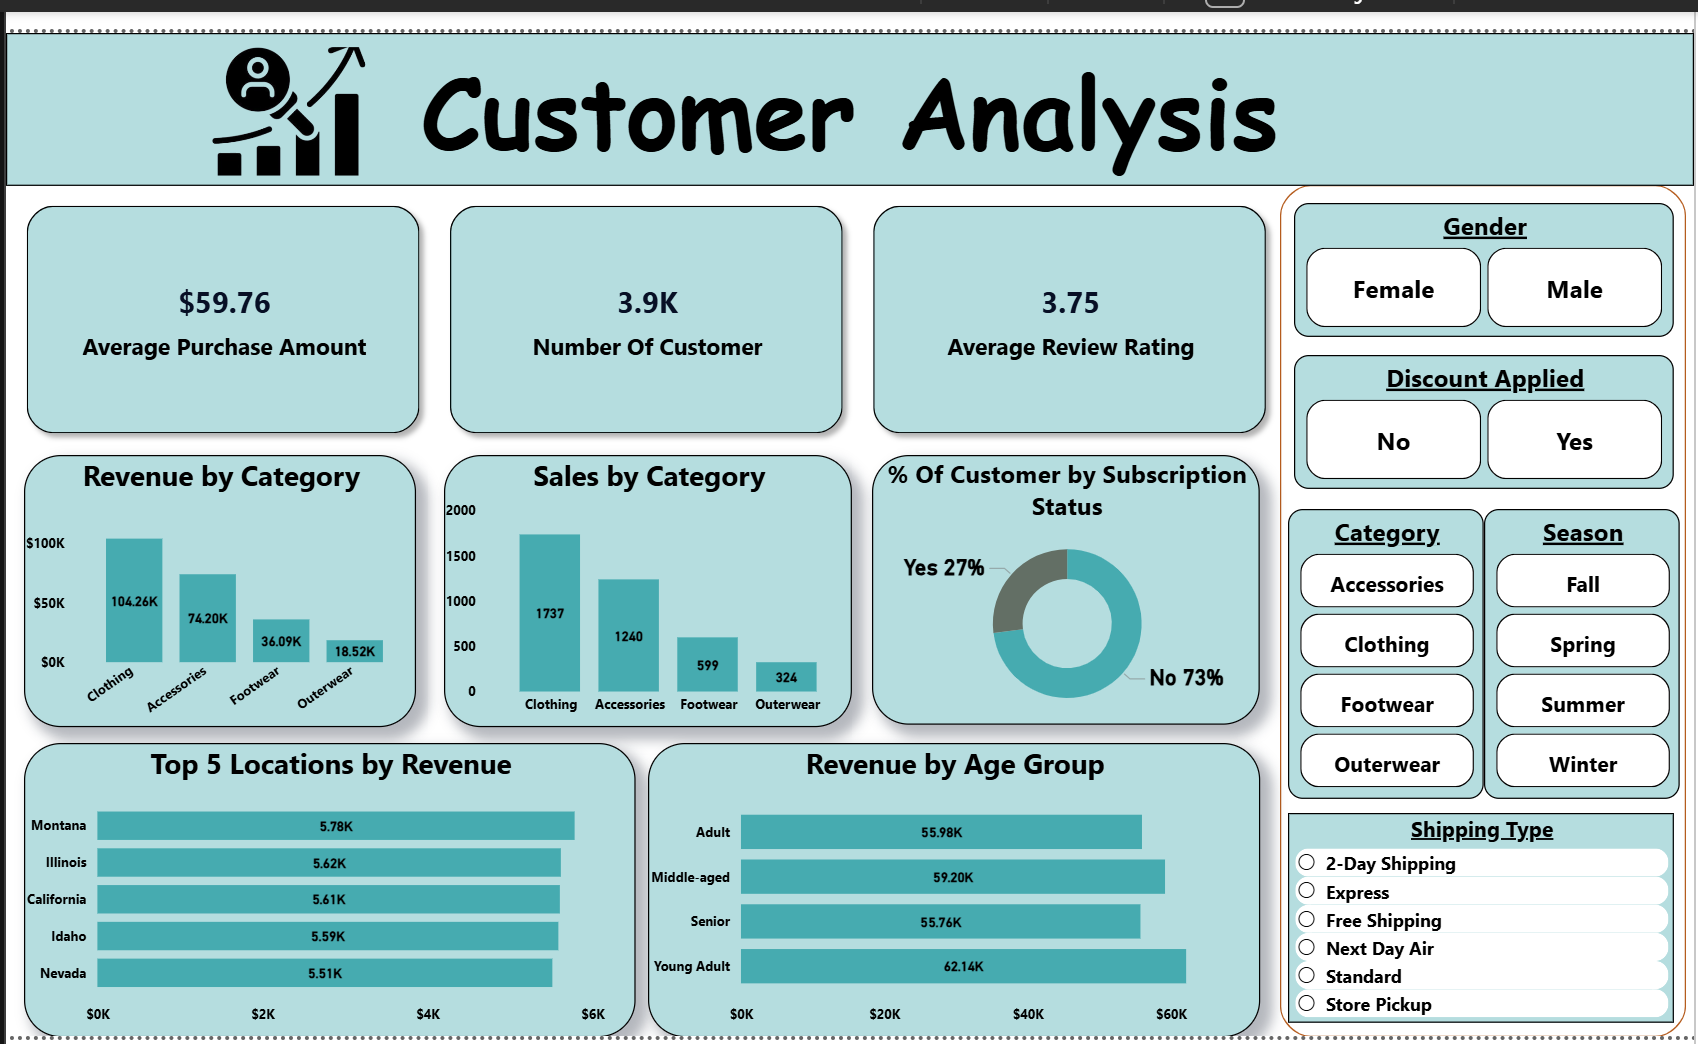

The page's visual inventory and layout, read from the dashboard file:
{"tool":"powerbi","page":{"name":"Page 1","canvas":[1380,820],"ordinal":0},"visuals":[{"type":"shape","box":[1041.5,123.4,331.9,696.5],"z":0},{"type":"cardVisual","fields":{"Data":["customer_db customer.Average Purchase Amount","customer_db customer.Number Of Customer","customer_db customer.Average Review Rating"]},"box":[0,124.3,1048.1,220.7],"z":1000},{"type":"shape","box":[0,0,1380,125],"z":2000},{"type":"donutChart","title":"%  Of Customer by Subscription Status","fields":{"Category":["customer_db customer.subscription_status"],"Y":["customer_db customer.Number Of Customer"]},"box":[708,345,317.2,220.7],"z":3000},{"type":"clusteredColumnChart","title":"Revenue by Category","fields":{"Category":["customer_db customer.category"],"Y":["Sum(customer_db customer.purchase_amount)"]},"box":[14.7,345,320.5,222.4],"z":4000},{"type":"clusteredColumnChart","title":"Sales by Category","fields":{"Category":["customer_db customer.category"],"Y":["customer_db customer.Number Of Customer"]},"box":[358.1,345,333.6,222.4],"z":5000},{"type":"advancedSlicerVisual","title":"Season","fields":{"Values":["customer_db customer.season"]},"box":[1208.3,389.1,160.2,237.1],"z":6000},{"type":"advancedSlicerVisual","title":"Gender","fields":{"Values":["customer_db customer.gender"]},"box":[1053,139,310.7,109.5],"z":7000},{"type":"advancedSlicerVisual","title":"Discount Applied","fields":{"Values":["customer_db customer.discount_applied"]},"box":[1053,263.2,310.7,109.5],"z":8000},{"type":"advancedSlicerVisual","title":"Category","fields":{"Values":["customer_db customer.category"]},"box":[1048.1,389.1,160.2,237.1],"z":9000},{"type":"listSlicer","title":"Shipping Type","fields":{"Values":["customer_db customer.shipping_type"]},"box":[1048.1,637.7,315.6,171.7],"z":10000},{"type":"clusteredBarChart","title":"Top 5 Locations by Revenue","fields":{"Category":["customer_db customer.location"],"Y":["Sum(customer_db customer.purchase_amount)","select"]},"box":[14.7,580.5,500,240.4],"z":11000},{"type":"clusteredBarChart","title":"Revenue by Age Group","fields":{"Y":["select","Sum(customer_db customer.purchase_amount)"],"Category":["customer_db customer.age_group"]},"box":[524.9,580.5,500.3,240.4],"z":12000},{"type":"image","box":[127.5,6,207.5,115],"z":13000}]}

Visuals, with their boxes in screenshot pixels (x1, y1, x2, y2):
shape: detection(1268, 176, 1671, 1021)
cardVisual - customer_db customer.Average Purchase Amount x customer_db customer.Number Of Customer: detection(4, 177, 1276, 445)
shape: detection(4, 27, 1679, 178)
"%  Of Customer by Subscription Status" donutChart: detection(864, 445, 1248, 713)
"Revenue by Category" clusteredColumnChart: detection(22, 445, 411, 715)
"Sales by Category" clusteredColumnChart: detection(439, 445, 844, 715)
"Season" advancedSlicerVisual: detection(1471, 499, 1665, 786)
"Gender" advancedSlicerVisual: detection(1282, 195, 1659, 328)
"Discount Applied" advancedSlicerVisual: detection(1282, 346, 1659, 479)
"Category" advancedSlicerVisual: detection(1276, 499, 1471, 786)
"Shipping Type" listSlicer: detection(1276, 800, 1659, 1009)
"Top 5 Locations by Revenue" clusteredBarChart: detection(22, 731, 629, 1023)
"Revenue by Age Group" clusteredBarChart: detection(641, 731, 1248, 1023)
image: detection(159, 34, 411, 173)
